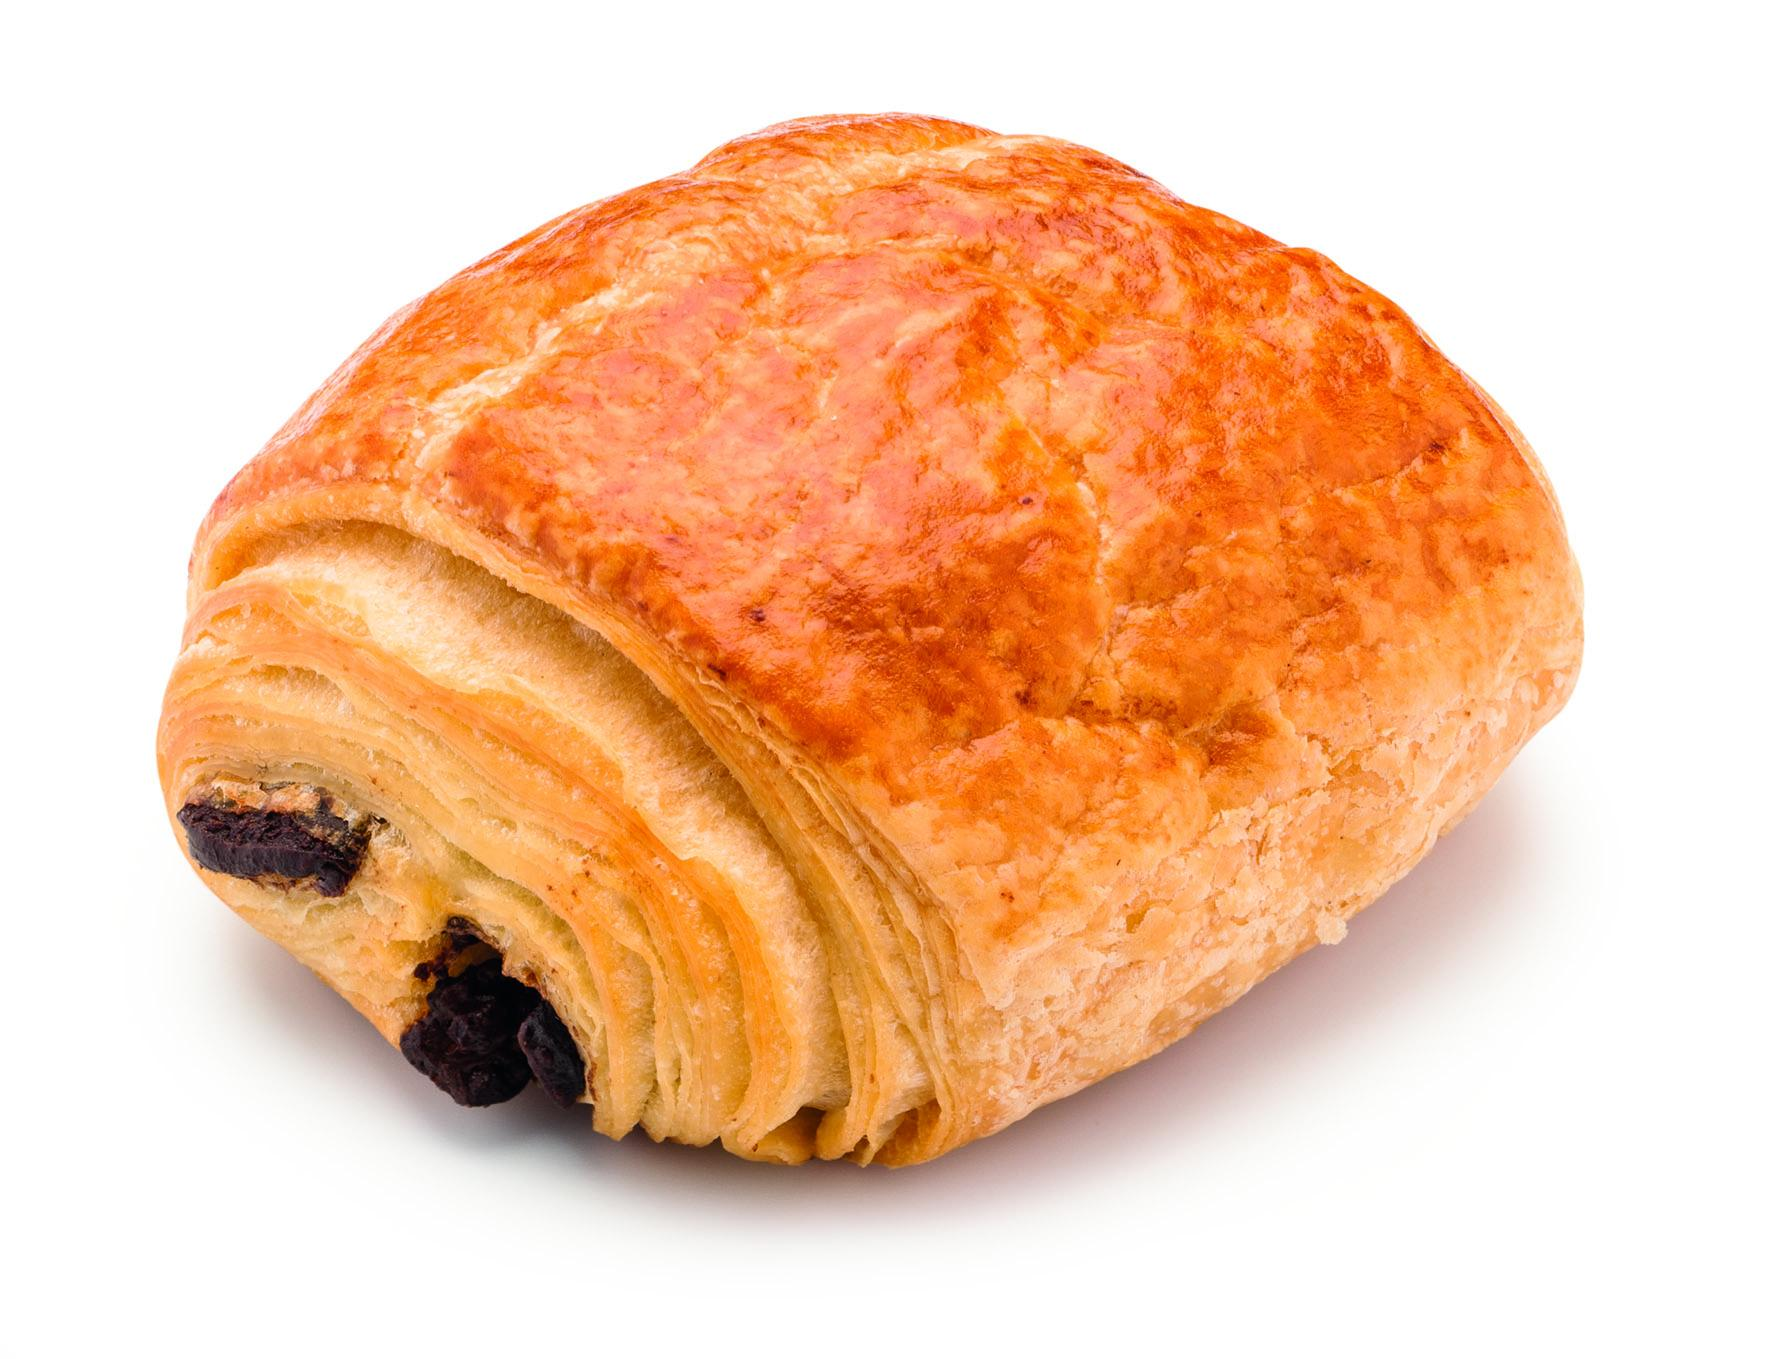pain au chocolat: (151, 77, 1638, 1221)
